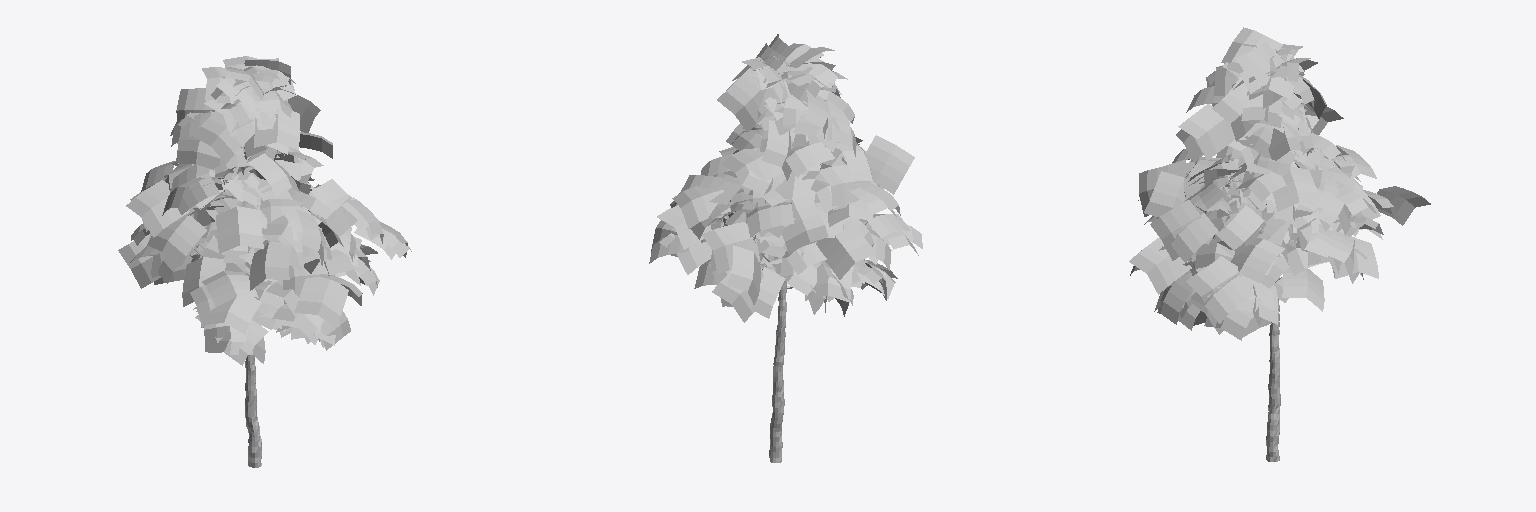
The model's file is mountain_trees4.obj.
3 views of the same model, side by side, from view 1: azimuth 30°, elevation 25°; view 2: azimuth 150°, elevation 25°; view 3: azimuth 270°, elevation 25° (orthographic).
Parts seen in each view (by area): view 1: foliage.004, structure.004; view 2: foliage.004, structure.004; view 3: foliage.004, structure.004.
Boxes of the visible parts, box(x1,y1,x2,y2) form: foliage.004: box(118, 56, 411, 365); structure.004: box(191, 66, 305, 467); foliage.004: box(649, 34, 922, 322); structure.004: box(755, 203, 867, 462); foliage.004: box(1129, 27, 1430, 340); structure.004: box(1222, 145, 1338, 461).
Bounding box in the file's own units: 25.82 × 40.12 × 26.77.